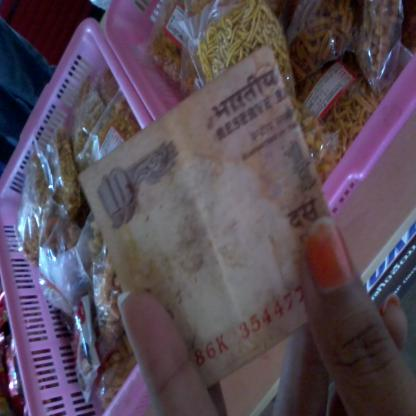Old10Front: (79, 46, 332, 384)
